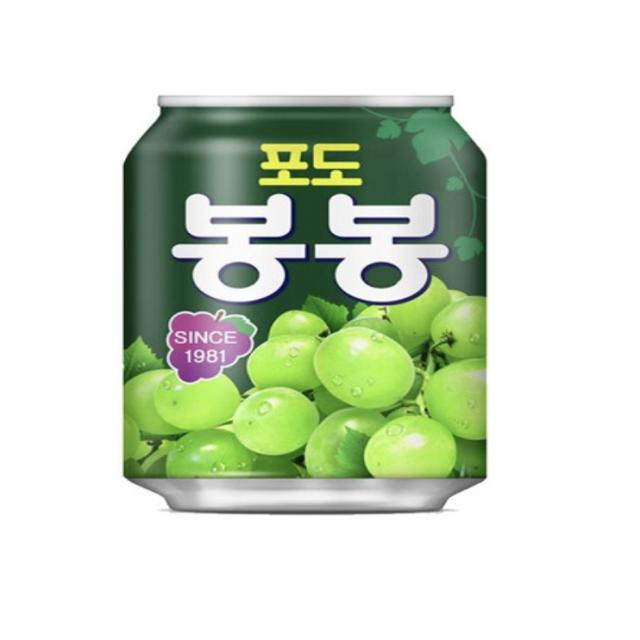recyclable: (65, 69, 516, 536)
